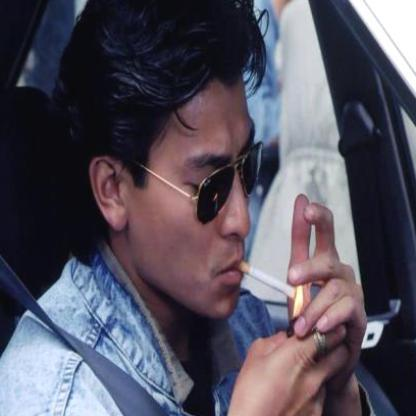cigarette: (240, 260, 297, 303)
person: (10, 3, 278, 415)
